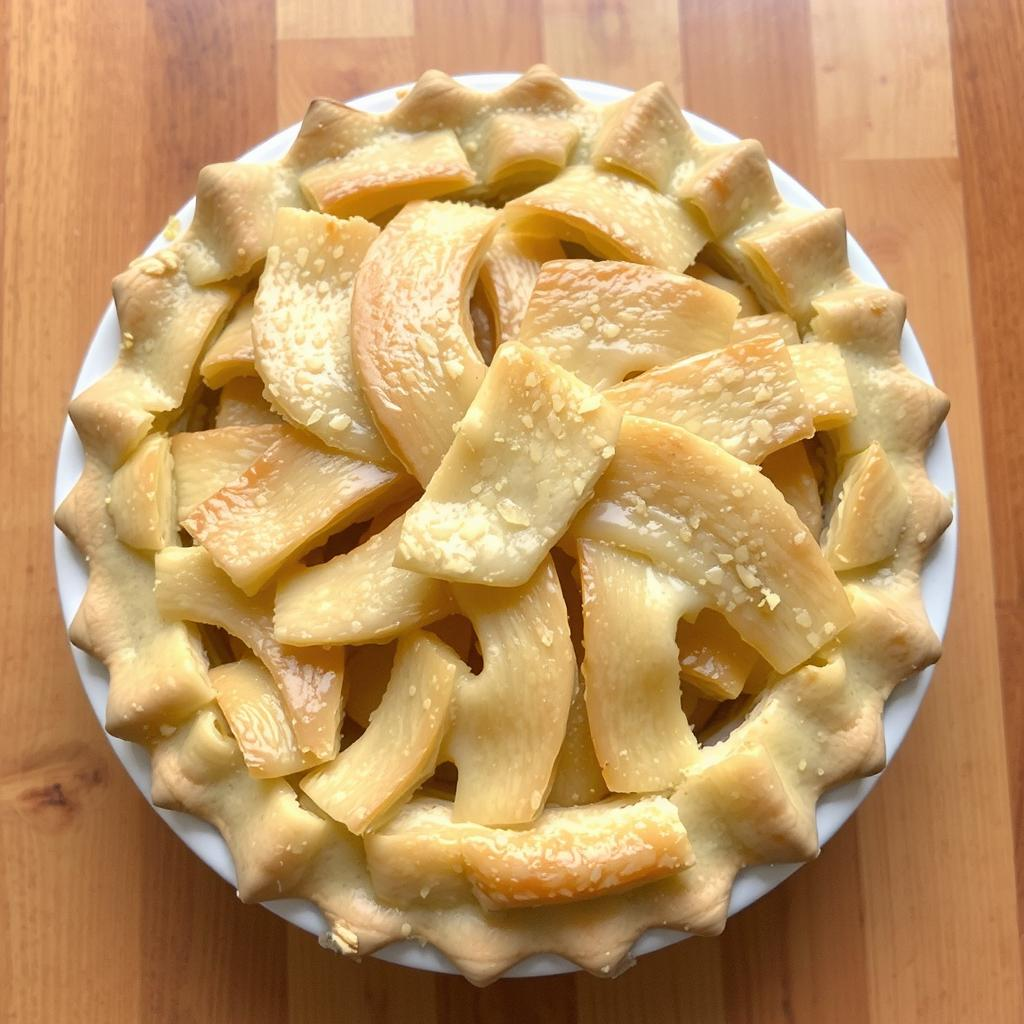pie: (50, 54, 970, 993)
